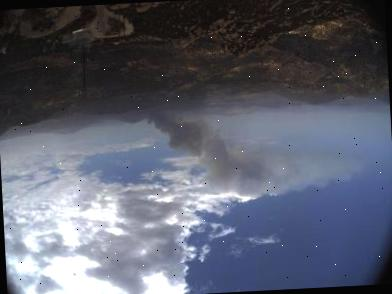smoke: (132, 93, 342, 207)
